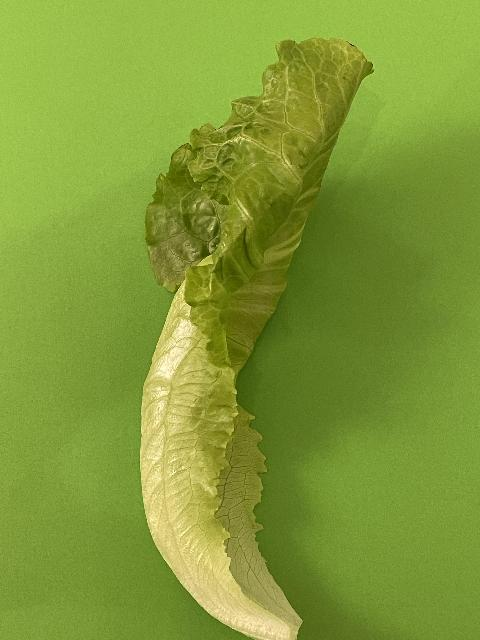lettuce: (141, 36, 375, 640)
